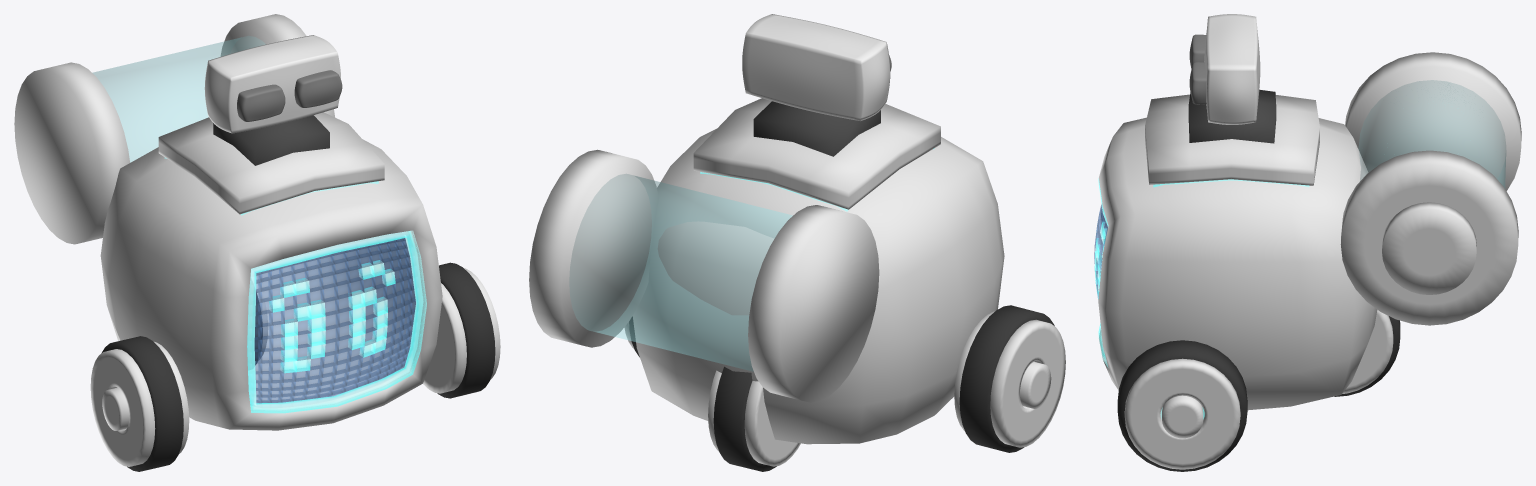
The model's file is robot_3roues.glb.
3 renders of one model, left to right at view 1: azimuth 30°, elevation 25°; view 2: azimuth 150°, elevation 25°; view 3: azimuth 270°, elevation 25°, orthographic. The views are drawn at different scales.
Visible parts, largest first — view 1: Cube, Circle.001, Cube.007, Circle, Cube.002, Cube.005, Cube.003, Cube.004, Cube.006, Circle.002; view 2: Cube, Circle.001, Cube.002, Circle, Cube.005, Circle.002, Cube.004; view 3: Cube, Circle.001, Circle, Cube.002, Cube.005, Cube.004, Circle.002, Cube.006, Cube.007.
Boxes of the visible parts, x1,y1,x2,y2 form: Cube: (100,139,442,430); Circle.001: (14,14,334,244); Cube.007: (254,238,415,403); Circle: (90,262,500,471); Cube.002: (158,112,384,215); Cube.005: (204,35,340,133); Cube.003: (247,230,426,413); Cube.004: (213,115,329,165); Cube.006: (237,70,342,121); Circle.002: (254,277,268,365); Cube: (632,128,1004,444); Circle.001: (529,149,879,402); Cube.002: (693,98,940,211); Circle: (624,305,1065,452); Cube.005: (742,14,890,121); Circle.002: (708,366,800,471); Cube.004: (753,101,880,156); Cube: (1098,117,1377,410); Circle.001: (1340,52,1521,325); Circle: (1117,340,1247,471); Cube.002: (1145,94,1319,187); Cube.005: (1204,14,1260,124); Cube.004: (1188,89,1276,143); Circle.002: (1334,310,1400,396); Cube.006: (1189,34,1206,104); Cube.007: (1094,204,1107,298).
Bounding box in the file's own units: 3.19 × 3 × 3.28.
